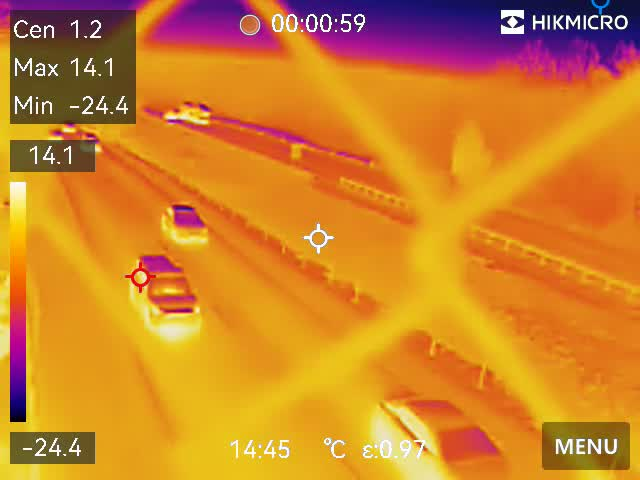heavyTruck: (166, 99, 213, 121)
largeCar: (131, 251, 207, 336)
smallCar: (161, 197, 206, 247)
vehicle: (370, 384, 507, 480)
